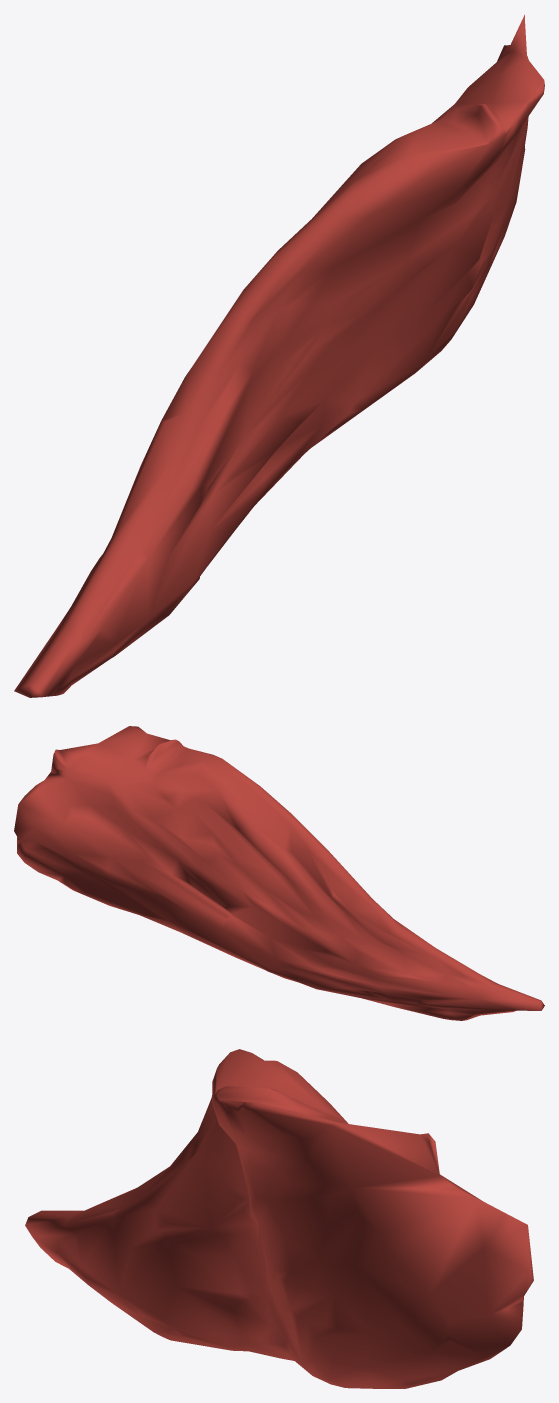
File: musculos-piriformis-muscle-r.glb
3 renders of one model, top to bottom at view 1: azimuth 30°, elevation 25°; view 2: azimuth 150°, elevation 25°; view 3: azimuth 270°, elevation 25°, orthographic. The views are drawn at different scales.
Parts seen in each view (by area): view 1: Piriformis muscle.r; view 2: Piriformis muscle.r; view 3: Piriformis muscle.r.
Boxes of the visible parts, bbox=[...] form: Piriformis muscle.r: bbox=[14, 14, 544, 697]; Piriformis muscle.r: bbox=[14, 726, 544, 1020]; Piriformis muscle.r: bbox=[25, 1049, 533, 1388].
Size of the model in its own units: 0.1098 by 0.0631 by 0.0593.
